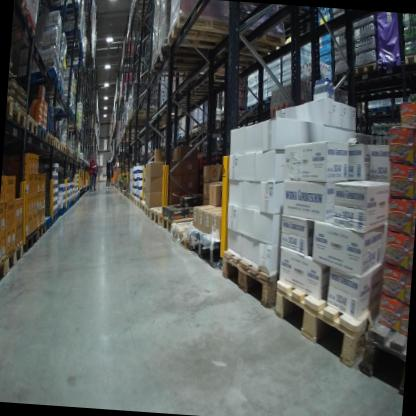pallet: (266, 272, 389, 381), (217, 241, 283, 312), (359, 314, 408, 393), (229, 19, 288, 66), (164, 13, 234, 52), (185, 223, 227, 271), (204, 50, 285, 74), (147, 55, 207, 85), (152, 42, 209, 72), (161, 204, 206, 239), (183, 71, 234, 97), (13, 6, 37, 56), (170, 216, 201, 251), (19, 65, 59, 92), (5, 241, 27, 281), (333, 55, 357, 88), (376, 54, 404, 82), (354, 56, 378, 86), (49, 1, 84, 20), (35, 79, 70, 98), (25, 110, 43, 143), (13, 100, 29, 135), (22, 229, 41, 257), (149, 202, 170, 227), (6, 93, 18, 129), (220, 108, 246, 124), (0, 254, 9, 291), (37, 121, 49, 145), (51, 104, 73, 116), (404, 50, 416, 71), (40, 214, 54, 232), (36, 220, 47, 241), (15, 0, 30, 15), (46, 129, 55, 150), (57, 113, 75, 123), (139, 198, 150, 213), (244, 102, 257, 114), (66, 123, 80, 133), (50, 210, 60, 224), (52, 136, 61, 151), (193, 124, 209, 132), (144, 204, 151, 219), (58, 140, 65, 151), (136, 197, 142, 208), (63, 143, 68, 156), (188, 130, 195, 136)
pallet_truck: (129, 106, 157, 122), (109, 156, 122, 188)
